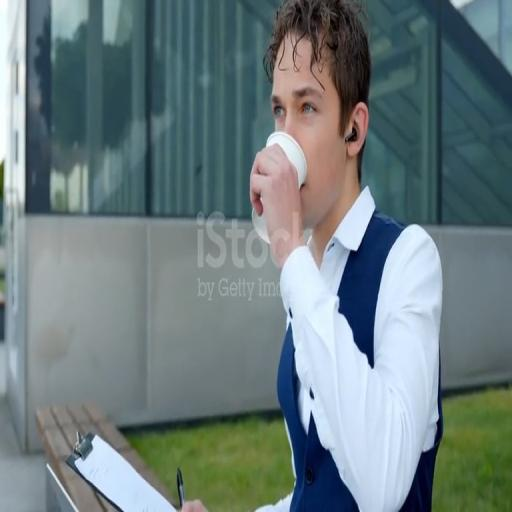earphone: (346, 119, 357, 152)
